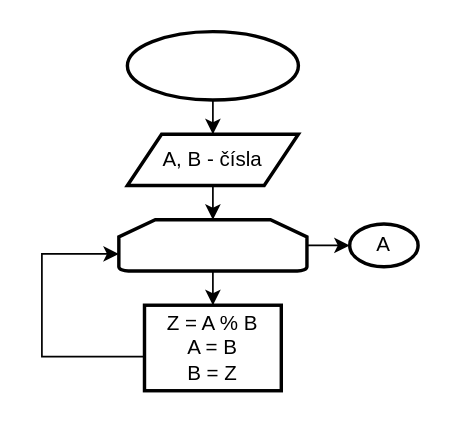
Image size: 450x421. Some labels were removed from this diagram. The centre of each missing label's shape, as x and y in pixels:
Dokud B různé od 0: (x=212, y=244)
Euklidův alg.: (x=212, y=65)
